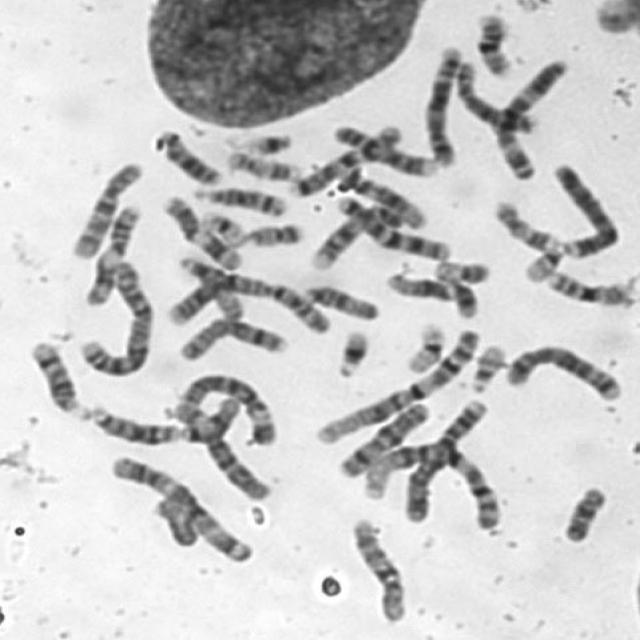A1: (310, 326, 482, 446), (354, 440, 502, 531)
A2: (163, 269, 333, 335), (75, 255, 155, 379)
A3: (104, 451, 255, 564), (489, 55, 571, 182)
B4: (398, 392, 489, 524), (548, 158, 620, 258)
B5: (500, 340, 624, 402), (419, 44, 464, 165)
C10: (67, 157, 144, 261), (346, 513, 408, 625)
C11: (80, 198, 143, 308), (159, 192, 245, 272)
C12: (334, 164, 433, 234), (381, 268, 481, 319)
C6: (166, 399, 270, 499), (171, 369, 278, 447)
C7: (283, 121, 405, 198), (332, 192, 452, 262)
C8: (452, 59, 540, 135), (174, 315, 290, 363)
C9: (305, 200, 417, 271), (329, 120, 438, 178)
D13: (154, 126, 222, 186), (92, 404, 182, 449)
D14: (27, 337, 80, 415), (190, 182, 287, 218)
D15: (174, 254, 246, 324), (300, 280, 380, 322)
E16: (542, 267, 634, 310), (472, 9, 514, 79)
E17: (489, 198, 557, 252), (220, 148, 304, 183)
E18: (557, 482, 608, 544), (177, 401, 244, 445)
F19: (399, 320, 449, 376), (199, 208, 246, 245)
F20: (240, 220, 304, 250), (429, 256, 492, 284)
G21: (330, 326, 371, 381), (236, 129, 296, 156)
G22: (465, 340, 508, 394), (518, 241, 564, 284)
X: (334, 398, 432, 479)
